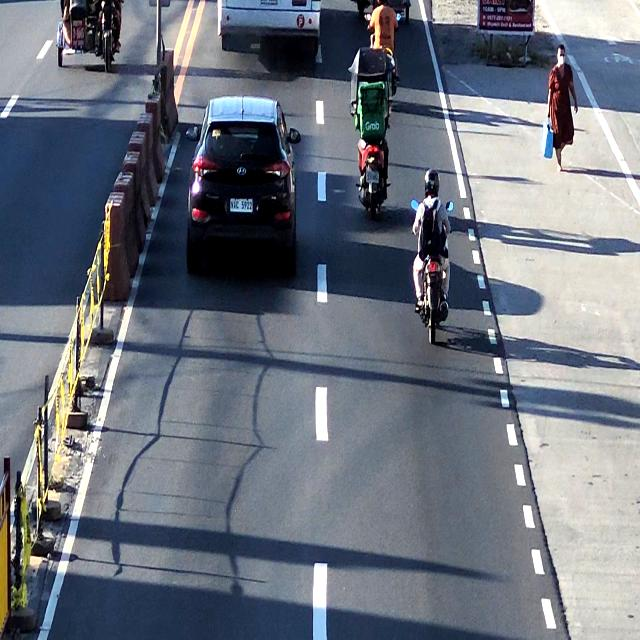Bus: (217, 0, 320, 66)
Car: (186, 93, 302, 270)
License-Plate: (230, 199, 254, 219), (365, 172, 380, 184)
Motorcycle: (412, 172, 458, 340), (360, 48, 390, 214)
